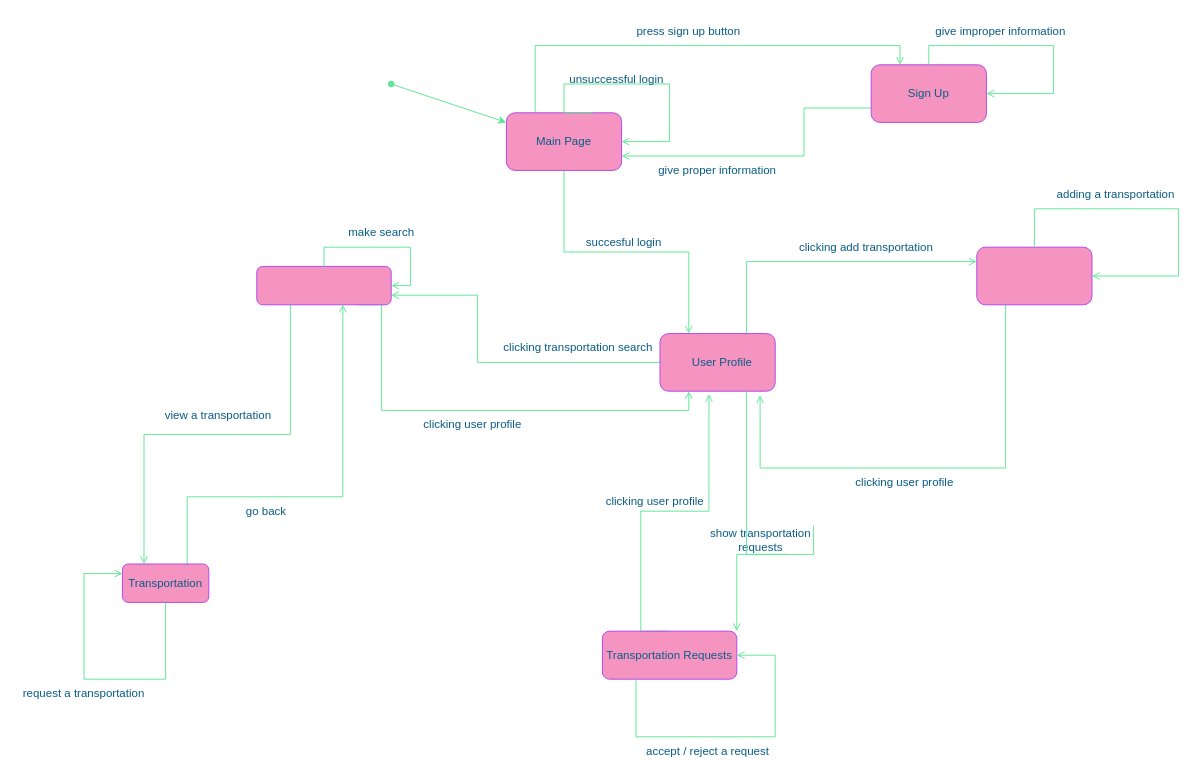
Some shapes in this 1203 by 781 pixel diagram are drawn without their labels. Each missing label, with the centre of its shape:
"Transportation Adding" goes at (1034,275).
"Transportation Searching" goes at (323,285).
